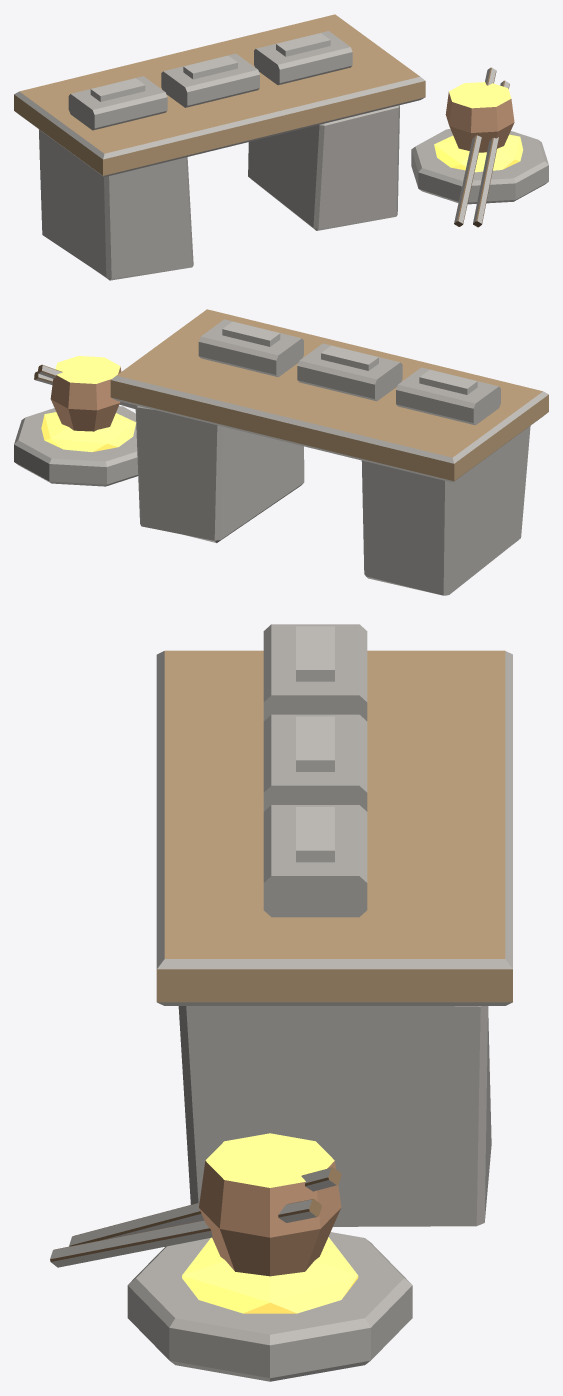
Rendered from asset_casting_bench_working.glb.
3 renders of one model, top to bottom at view 1: azimuth 30°, elevation 25°; view 2: azimuth 150°, elevation 25°; view 3: azimuth 270°, elevation 25°, orthographic. The views are drawn at different scales.
Visible parts, largest first — view 1: asset_casting_bench_working; view 2: asset_casting_bench_working; view 3: asset_casting_bench_working.
Part boxes in pixels (x1,y1,x2,y2): asset_casting_bench_working: [14, 14, 548, 280]; asset_casting_bench_working: [14, 309, 548, 595]; asset_casting_bench_working: [50, 624, 512, 1381].
Size of the model in its own units: 1.66 by 0.57 by 0.715.
